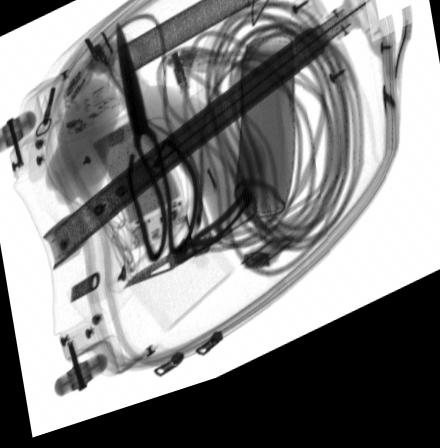Knife: (122, 201, 256, 299)
Powerbank: (84, 108, 192, 263)
Scissors: (111, 27, 200, 278)
